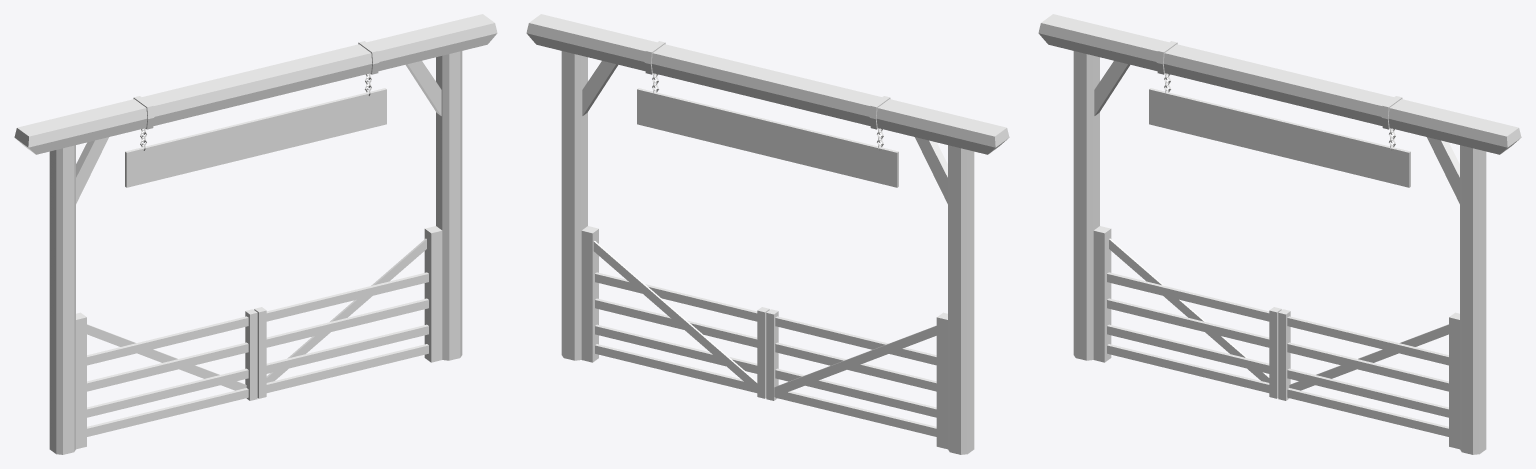
Rendered from Bld_Farm_Gate_Sign_02.glb.
3 renders of one model, left to right at view 1: azimuth 30°, elevation 25°; view 2: azimuth 150°, elevation 25°; view 3: azimuth 330°, elevation 25°, orthographic.
Visible parts, largest first — view 1: Bld_Farm_Gate_Sign_02, Bld_Farm_Gate_Sign_Right_02, Bld_Farm_Gate_Sign_Left_02; view 2: Bld_Farm_Gate_Sign_02, Bld_Farm_Gate_Sign_Right_02, Bld_Farm_Gate_Sign_Left_02; view 3: Bld_Farm_Gate_Sign_02, Bld_Farm_Gate_Sign_Left_02, Bld_Farm_Gate_Sign_Right_02.
Part boxes in pixels (x1=…): Bld_Farm_Gate_Sign_02: x1=14, y1=14, x2=497, y2=454; Bld_Farm_Gate_Sign_Right_02: x1=254, y1=226, x2=442, y2=398; Bld_Farm_Gate_Sign_Left_02: x1=76, y1=309, x2=257, y2=449; Bld_Farm_Gate_Sign_02: x1=526, y1=14, x2=1009, y2=454; Bld_Farm_Gate_Sign_Right_02: x1=581, y1=226, x2=769, y2=398; Bld_Farm_Gate_Sign_Left_02: x1=766, y1=309, x2=947, y2=449; Bld_Farm_Gate_Sign_02: x1=1038, y1=14, x2=1521, y2=454; Bld_Farm_Gate_Sign_Left_02: x1=1093, y1=226, x2=1281, y2=398; Bld_Farm_Gate_Sign_Right_02: x1=1278, y1=309, x2=1459, y2=449.
Bounding box in the file's own units: 8.27 × 5.53 × 0.4733.
1 material, 1 textured.
